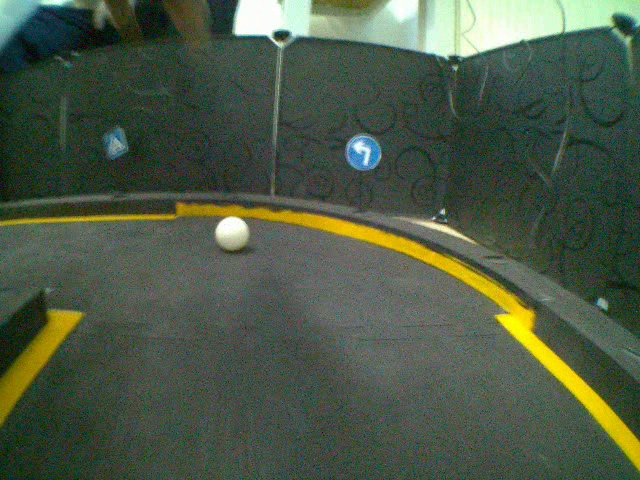ball: (213, 216, 256, 249)
